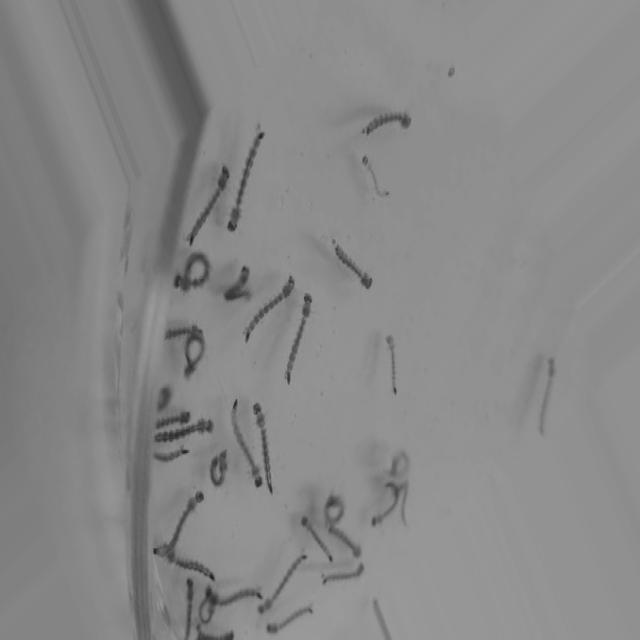larvas: (225, 127, 268, 232), (239, 271, 296, 349), (183, 161, 231, 251), (278, 288, 318, 386), (256, 551, 309, 620), (230, 394, 258, 481), (169, 483, 207, 546), (162, 546, 217, 589), (263, 599, 314, 640), (336, 244, 372, 287), (156, 419, 212, 443), (175, 254, 212, 290), (257, 399, 270, 492), (363, 151, 387, 200), (330, 522, 362, 556), (373, 482, 397, 526), (302, 516, 328, 556), (224, 266, 252, 300), (322, 564, 367, 585), (367, 111, 411, 132), (544, 354, 555, 437), (182, 578, 196, 640), (205, 588, 264, 602), (182, 338, 205, 372), (390, 452, 413, 481), (209, 447, 227, 484), (388, 334, 399, 394), (156, 446, 190, 464), (166, 324, 203, 340), (194, 624, 230, 640), (156, 411, 188, 428), (323, 496, 343, 522), (400, 482, 409, 528), (201, 602, 216, 623)
